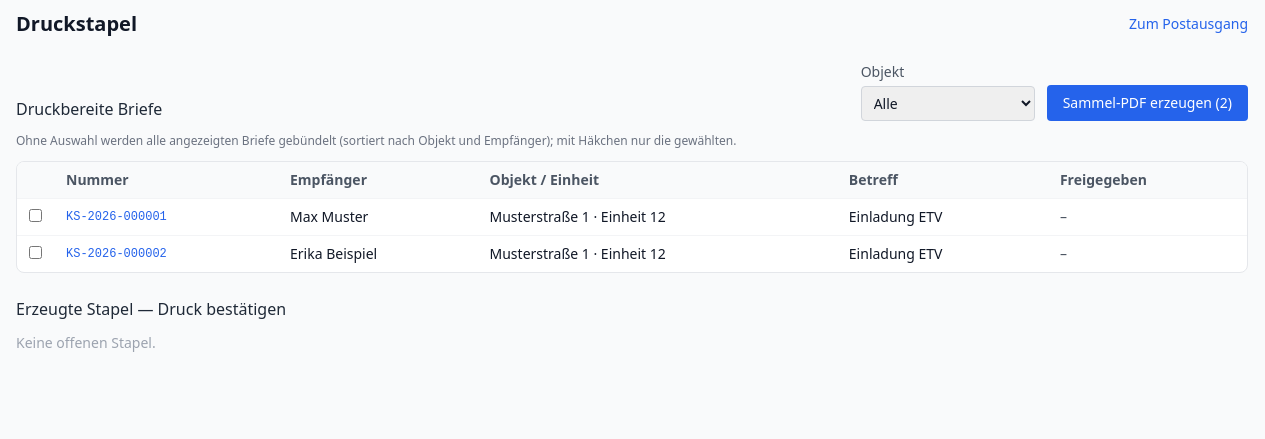
Test: DruckstapelPage › zeigt eine Backend-Fehlermeldung beim Erzeugen
Click the button "Sammel-PDF erzeugen (2)" at (1147, 103), box [1047, 85, 1248, 121]
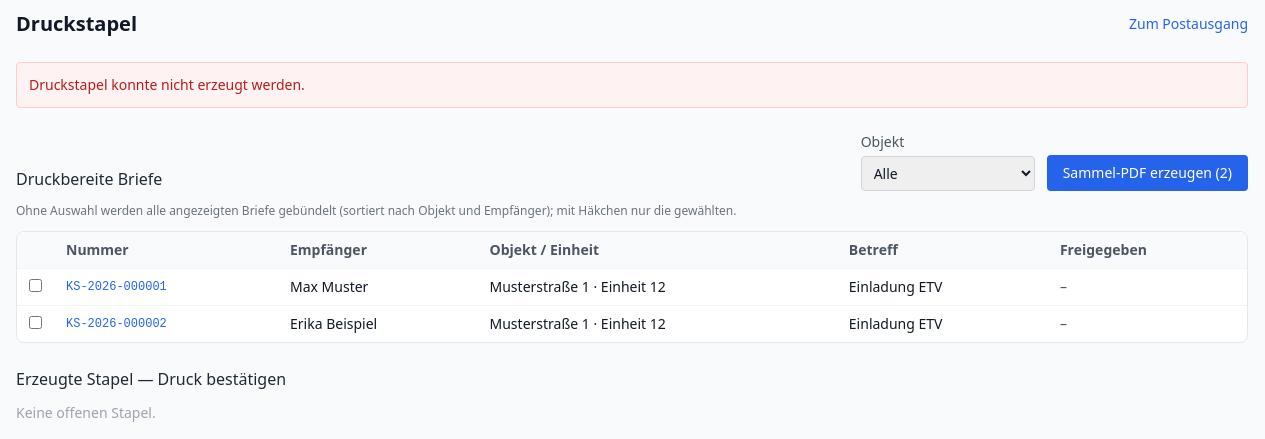
Now the message reads "Druckstapel konnte nicht erzeugt werden.", box [29, 75, 305, 94]
